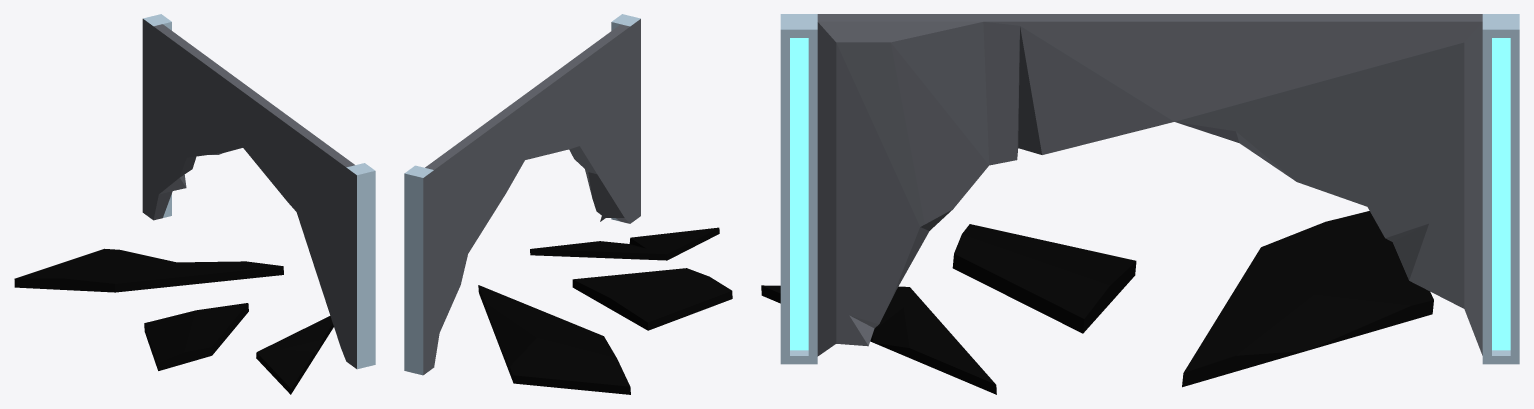
File: Trim_Small_Hole.fbx
3 views of the same model, side by side, from view 1: azimuth 30°, elevation 25°; view 2: azimuth 150°, elevation 25°; view 3: azimuth 270°, elevation 25° (orthographic). The views are drawn at different scales.
Parts seen in each view (by area): view 1: Trim_Small_Hole; view 2: Trim_Small_Hole; view 3: Trim_Small_Hole.
Boxes of the visible parts, x1=… form: Trim_Small_Hole: x1=14, y1=14, x2=375, y2=394; Trim_Small_Hole: x1=404, y1=14, x2=732, y2=394; Trim_Small_Hole: x1=761, y1=14, x2=1519, y2=394.
Bounding box in the file's own units: 2.3 × 2.11 × 4.11.
